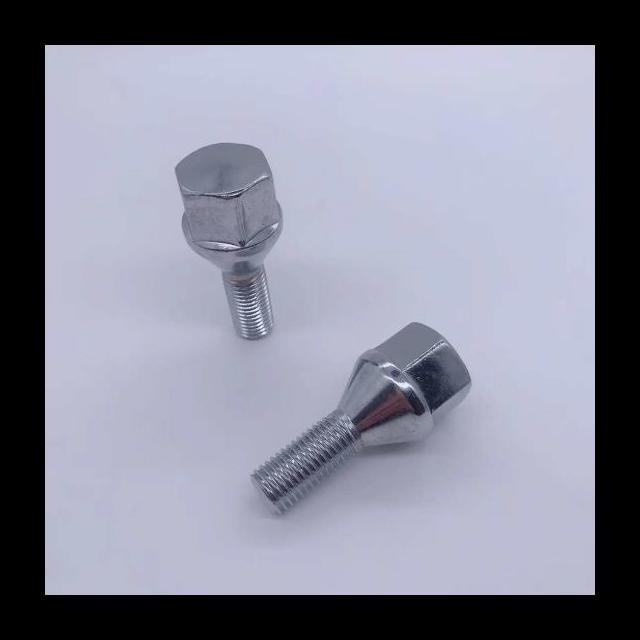metal: (223, 289, 488, 527), (159, 131, 321, 360)
